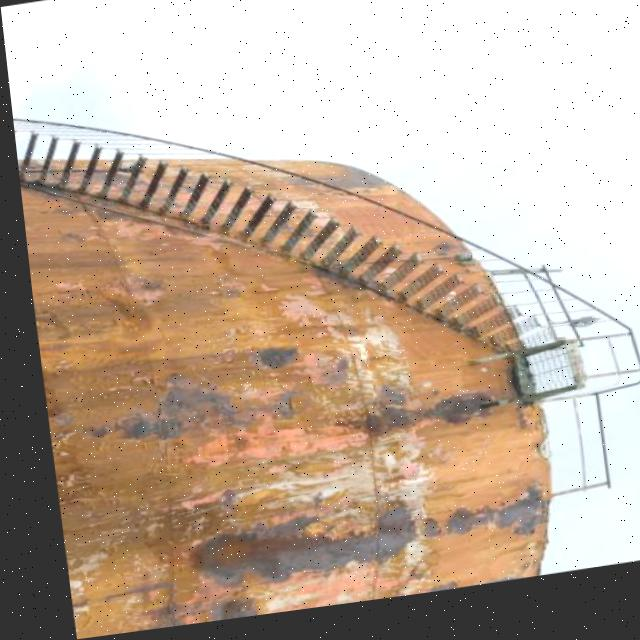corrosion: (13, 99, 549, 640)
